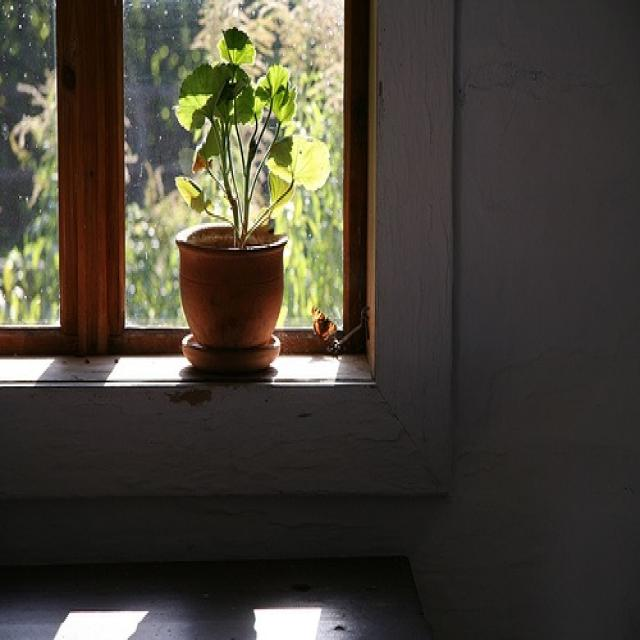pottedplant: (170, 25, 329, 373)
